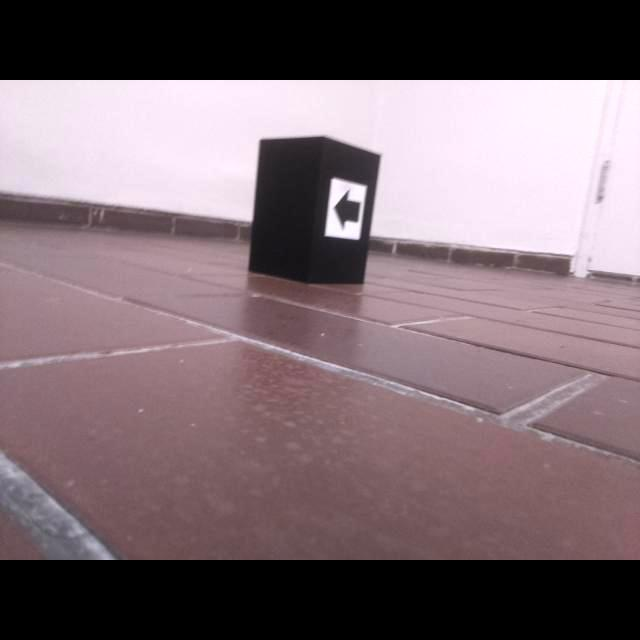LEFT: (332, 187, 362, 231)
